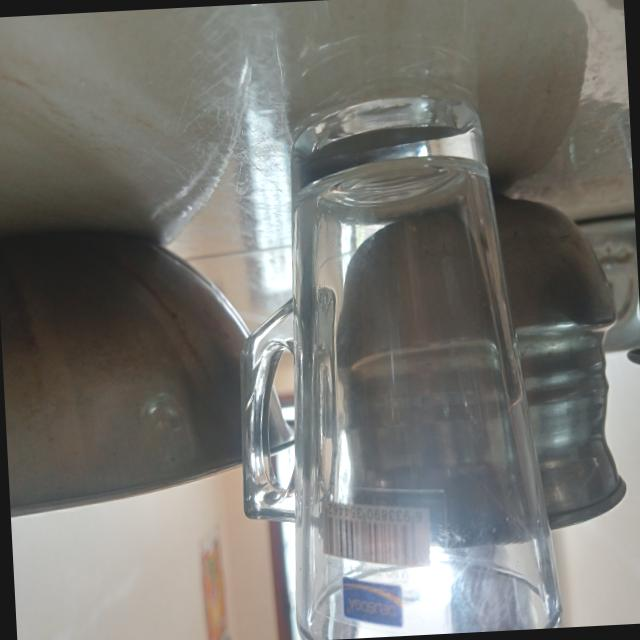glass-VX4N: (211, 80, 566, 640)
